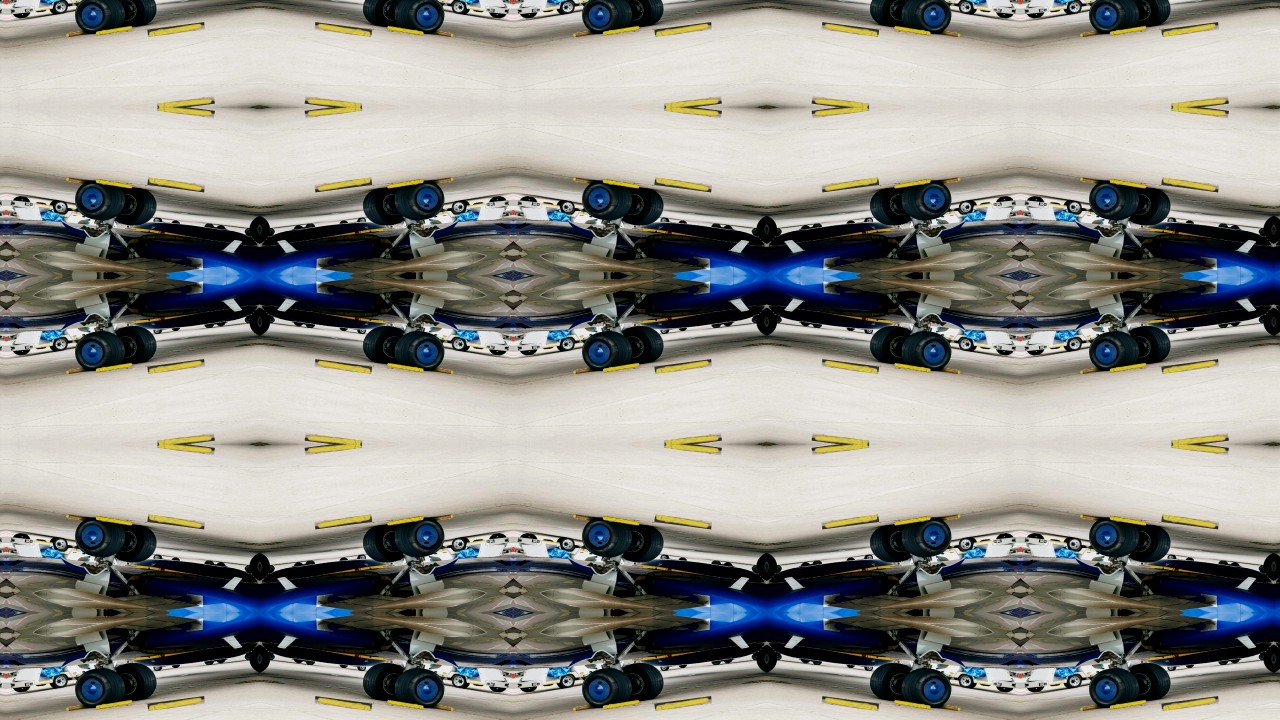chock: (146, 21, 204, 36), (314, 21, 372, 36), (654, 21, 712, 36), (822, 21, 880, 36), (1162, 21, 1220, 36), (146, 177, 204, 192), (314, 177, 372, 192), (654, 177, 712, 192), (822, 177, 880, 192), (1162, 177, 1220, 192), (146, 359, 204, 374), (314, 359, 372, 374), (654, 359, 712, 374), (822, 359, 880, 374), (1162, 359, 1220, 374), (146, 515, 204, 530), (314, 515, 372, 530), (654, 515, 712, 530), (822, 515, 880, 530), (1162, 515, 1220, 530), (146, 697, 204, 712), (314, 697, 372, 712), (654, 697, 712, 712), (822, 697, 880, 712), (1162, 697, 1220, 712), (156, 106, 214, 117), (304, 106, 362, 117), (664, 106, 722, 117), (812, 106, 870, 117), (1172, 106, 1230, 117), (156, 434, 214, 445), (304, 434, 362, 445), (664, 434, 722, 445), (812, 434, 870, 445), (1172, 434, 1230, 445), (156, 96, 214, 106), (304, 96, 362, 106), (664, 96, 722, 106), (812, 96, 870, 106), (1172, 96, 1230, 106), (156, 445, 214, 455), (304, 445, 362, 455), (664, 445, 722, 455), (812, 445, 870, 455), (1172, 445, 1230, 455), (94, 24, 134, 35), (384, 24, 424, 35), (602, 24, 642, 35), (892, 24, 932, 35), (1110, 24, 1150, 35), (94, 178, 134, 189), (384, 178, 424, 189), (602, 178, 642, 189), (892, 178, 932, 189), (1110, 178, 1150, 189), (94, 362, 134, 373), (384, 362, 424, 373), (602, 362, 642, 373), (892, 362, 932, 373), (1110, 362, 1150, 373), (94, 516, 134, 527), (384, 516, 424, 527), (602, 516, 642, 527), (892, 516, 932, 527), (1110, 516, 1150, 527), (94, 700, 134, 711), (384, 700, 424, 711), (602, 700, 642, 711), (892, 700, 932, 711), (1110, 700, 1150, 711), (63, 27, 99, 36), (419, 27, 455, 36), (571, 27, 607, 36), (927, 27, 963, 36), (1079, 27, 1115, 36), (63, 177, 99, 186), (419, 177, 455, 186), (571, 177, 607, 186), (927, 177, 963, 186), (1079, 177, 1115, 186), (63, 365, 99, 374), (419, 365, 455, 374), (571, 365, 607, 374), (927, 365, 963, 374), (1079, 365, 1115, 374), (63, 515, 99, 524), (419, 515, 455, 524), (571, 515, 607, 524), (927, 515, 963, 524), (1079, 515, 1115, 524), (63, 703, 99, 712), (419, 703, 455, 712), (571, 703, 607, 712), (927, 703, 963, 712), (1079, 703, 1115, 712)
wheel: (71, 179, 125, 223), (393, 179, 447, 223), (579, 179, 633, 223), (901, 179, 955, 223), (1087, 179, 1141, 223), (71, 328, 125, 372), (393, 328, 447, 372), (579, 328, 633, 372), (901, 328, 955, 372), (1087, 328, 1141, 372), (71, 517, 125, 561), (393, 517, 447, 561), (579, 517, 633, 561), (901, 517, 955, 561), (1087, 517, 1141, 561), (71, 666, 125, 710), (393, 666, 447, 710), (579, 666, 633, 710), (901, 666, 955, 710), (1087, 666, 1141, 710), (111, 186, 158, 228), (360, 186, 407, 228), (619, 186, 666, 228), (868, 186, 915, 228), (1127, 186, 1174, 228), (111, 323, 158, 365), (360, 323, 407, 365), (619, 323, 666, 365), (868, 323, 915, 365), (1127, 323, 1174, 365), (111, 524, 158, 566), (360, 524, 407, 566), (619, 524, 666, 566), (868, 524, 915, 566), (1127, 524, 1174, 566), (111, 661, 158, 703), (360, 661, 407, 703), (619, 661, 666, 703), (868, 661, 915, 703), (1127, 661, 1174, 703), (71, 0, 125, 34), (393, 0, 447, 34), (579, 0, 633, 34), (901, 0, 955, 34), (1087, 0, 1141, 34), (111, 0, 158, 27), (360, 0, 407, 27), (619, 0, 666, 27), (868, 0, 915, 27), (1127, 0, 1174, 27), (246, 213, 259, 247), (259, 213, 272, 247), (754, 213, 767, 247), (767, 213, 780, 247), (1262, 213, 1275, 247), (246, 304, 259, 338), (259, 304, 272, 338), (754, 304, 767, 338), (767, 304, 780, 338), (1262, 304, 1275, 338), (246, 551, 259, 585), (259, 551, 272, 585), (754, 551, 767, 585), (767, 551, 780, 585), (1262, 551, 1275, 585), (246, 642, 259, 676), (259, 642, 272, 676), (754, 642, 767, 676), (767, 642, 780, 676), (1262, 642, 1275, 676), (48, 199, 68, 214), (450, 199, 470, 214), (556, 199, 576, 214), (958, 199, 978, 214), (1064, 199, 1084, 214), (48, 337, 68, 352), (450, 337, 470, 352), (556, 337, 576, 352), (958, 337, 978, 352), (1064, 337, 1084, 352), (48, 537, 68, 552), (450, 537, 470, 552), (556, 537, 576, 552), (958, 537, 978, 552), (1064, 537, 1084, 552), (48, 675, 68, 690), (450, 675, 470, 690), (556, 675, 576, 690), (958, 675, 978, 690), (1064, 675, 1084, 690), (48, 0, 68, 14), (450, 0, 470, 14), (556, 0, 576, 14), (958, 0, 978, 14), (1064, 0, 1084, 14), (1275, 213, 1280, 247), (1275, 304, 1280, 338), (1275, 551, 1280, 585), (1275, 642, 1280, 676), (12, 11, 29, 18), (489, 11, 506, 18), (520, 11, 537, 18), (997, 11, 1014, 18), (1028, 11, 1045, 18), (12, 195, 29, 202), (489, 195, 506, 202), (520, 195, 537, 202), (997, 195, 1014, 202), (1028, 195, 1045, 202), (12, 349, 29, 356), (489, 349, 506, 356), (520, 349, 537, 356), (997, 349, 1014, 356), (1028, 349, 1045, 356), (12, 533, 29, 540), (489, 533, 506, 540), (520, 533, 537, 540), (997, 533, 1014, 540), (1028, 533, 1045, 540), (12, 687, 29, 694), (489, 687, 506, 694), (520, 687, 537, 694), (997, 687, 1014, 694), (1028, 687, 1045, 694), (243, 227, 251, 236), (267, 227, 275, 236), (751, 227, 759, 236), (775, 227, 783, 236), (1259, 227, 1267, 236), (243, 315, 251, 324), (267, 315, 275, 324), (751, 315, 759, 324), (775, 315, 783, 324), (1259, 315, 1267, 324), (243, 565, 251, 574), (267, 565, 275, 574), (751, 565, 759, 574), (775, 565, 783, 574), (1259, 565, 1267, 574), (243, 653, 251, 662), (267, 653, 275, 662), (751, 653, 759, 662), (775, 653, 783, 662), (1259, 653, 1267, 662), (48, 7, 57, 14), (461, 7, 470, 14), (556, 7, 565, 14), (969, 7, 978, 14), (1064, 7, 1073, 14), (48, 199, 57, 206), (461, 199, 470, 206), (556, 199, 565, 206), (969, 199, 978, 206), (1064, 199, 1073, 206), (48, 345, 57, 352), (461, 345, 470, 352), (556, 345, 565, 352), (969, 345, 978, 352), (1064, 345, 1073, 352), (48, 537, 57, 544), (461, 537, 470, 544), (556, 537, 565, 544), (969, 537, 978, 544), (1064, 537, 1073, 544), (48, 683, 57, 690), (461, 683, 470, 690), (556, 683, 565, 690), (969, 683, 978, 690), (1064, 683, 1073, 690), (203, 223, 213, 228), (305, 223, 315, 228), (711, 223, 721, 228), (813, 223, 823, 228), (1219, 223, 1229, 228), (203, 323, 213, 328), (305, 323, 315, 328), (711, 323, 721, 328), (813, 323, 823, 328), (1219, 323, 1229, 328), (203, 561, 213, 566), (305, 561, 315, 566), (711, 561, 721, 566), (813, 561, 823, 566), (1219, 561, 1229, 566), (203, 661, 213, 666), (305, 661, 315, 666), (711, 661, 721, 666), (813, 661, 823, 666), (1219, 661, 1229, 666), (152, 217, 161, 222), (357, 217, 366, 222), (660, 217, 669, 222), (865, 217, 874, 222), (1168, 217, 1177, 222), (152, 329, 161, 334), (357, 329, 366, 334), (660, 329, 669, 334), (865, 329, 874, 334), (1168, 329, 1177, 334), (152, 555, 161, 560), (357, 555, 366, 560), (660, 555, 669, 560), (865, 555, 874, 560), (1168, 555, 1177, 560), (152, 667, 161, 672), (357, 667, 366, 672), (660, 667, 669, 672), (865, 667, 874, 672), (1168, 667, 1177, 672), (34, 8, 45, 12), (473, 8, 484, 12), (542, 8, 553, 12), (981, 8, 992, 12), (1050, 8, 1061, 12), (34, 201, 45, 205), (473, 201, 484, 205), (542, 201, 553, 205), (981, 201, 992, 205), (1050, 201, 1061, 205), (34, 346, 45, 350), (473, 346, 484, 350), (542, 346, 553, 350), (981, 346, 992, 350), (1050, 346, 1061, 350), (34, 539, 45, 543), (473, 539, 484, 543), (542, 539, 553, 543), (981, 539, 992, 543), (1050, 539, 1061, 543), (34, 684, 45, 688), (473, 684, 484, 688), (542, 684, 553, 688), (981, 684, 992, 688), (1050, 684, 1061, 688), (215, 225, 225, 229), (293, 225, 303, 229), (723, 225, 733, 229), (801, 225, 811, 229), (1231, 225, 1241, 229), (215, 322, 225, 326), (293, 322, 303, 326), (723, 322, 733, 326), (801, 322, 811, 326), (1231, 322, 1241, 326), (215, 563, 225, 567), (293, 563, 303, 567), (723, 563, 733, 567), (801, 563, 811, 567), (1231, 563, 1241, 567), (215, 660, 225, 664), (293, 660, 303, 664), (723, 660, 733, 664), (801, 660, 811, 664), (1231, 660, 1241, 664), (170, 220, 179, 224), (339, 220, 348, 224), (678, 220, 687, 224), (847, 220, 856, 224), (1186, 220, 1195, 224), (170, 327, 179, 331), (339, 327, 348, 331), (678, 327, 687, 331), (847, 327, 856, 331), (1186, 327, 1195, 331), (170, 558, 179, 562), (339, 558, 348, 562), (678, 558, 687, 562), (847, 558, 856, 562), (1186, 558, 1195, 562), (170, 665, 179, 669), (339, 665, 348, 669), (678, 665, 687, 669), (847, 665, 856, 669), (1186, 665, 1195, 669), (66, 2, 72, 5), (446, 2, 452, 5), (574, 2, 580, 5), (954, 2, 960, 5), (1082, 2, 1088, 5), (66, 208, 72, 211), (446, 208, 452, 211), (574, 208, 580, 211), (954, 208, 960, 211), (1082, 208, 1088, 211), (66, 340, 72, 343), (446, 340, 452, 343), (574, 340, 580, 343), (954, 340, 960, 343), (1082, 340, 1088, 343), (66, 546, 72, 549), (446, 546, 452, 549), (574, 546, 580, 549), (954, 546, 960, 549), (1082, 546, 1088, 549), (66, 678, 72, 681), (446, 678, 452, 681), (574, 678, 580, 681), (954, 678, 960, 681), (1082, 678, 1088, 681)
